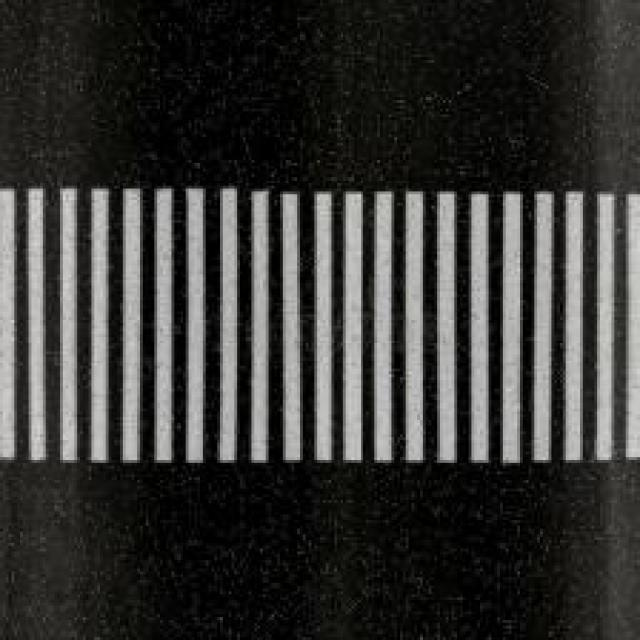walk-crossing: (0, 191, 640, 467)
